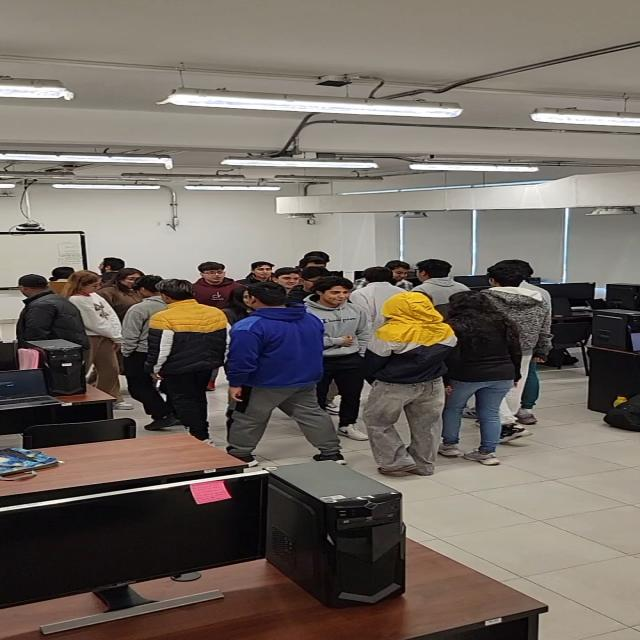Persona: (222, 280, 354, 466), (363, 290, 459, 476), (145, 277, 235, 446), (448, 290, 524, 468), (58, 268, 143, 410), (121, 272, 176, 428), (12, 274, 92, 346), (351, 264, 416, 339), (413, 259, 467, 305), (188, 261, 237, 304), (100, 266, 147, 306), (258, 271, 312, 293), (241, 260, 287, 285), (47, 267, 83, 295), (382, 258, 413, 281), (98, 257, 133, 274), (296, 255, 330, 269)
